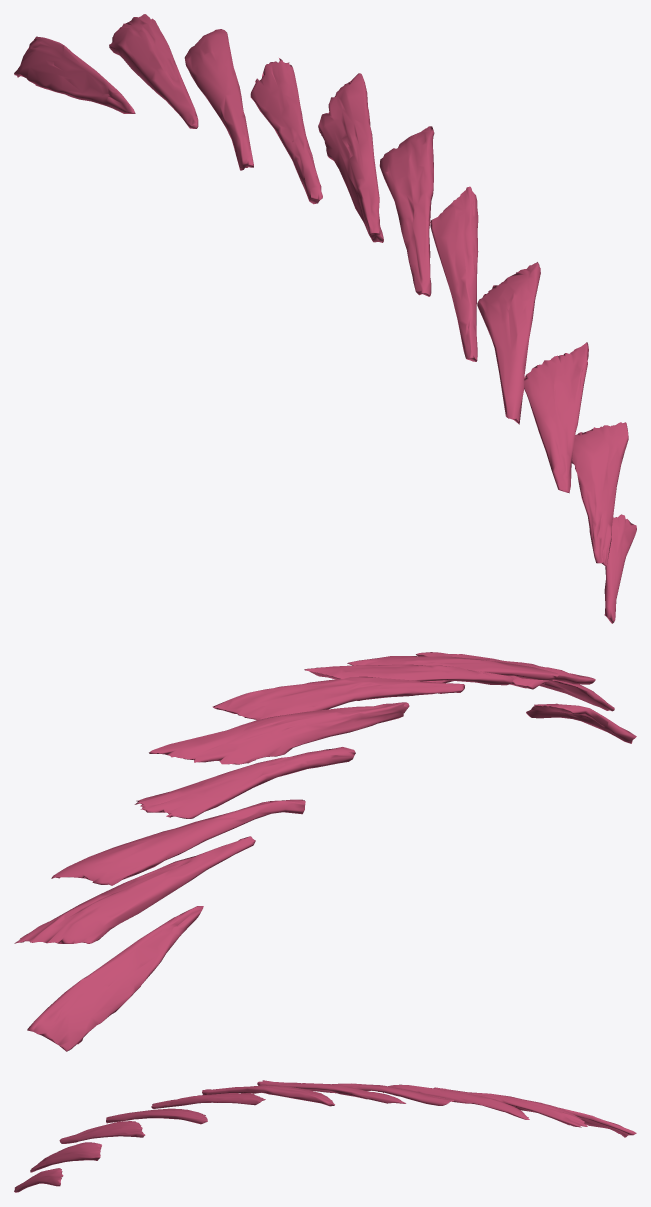
The picture shows the model from 3 angles, top to bottom: view 1: azimuth 30°, elevation 25°; view 2: azimuth 150°, elevation 25°; view 3: azimuth 270°, elevation 25°; orthographic projection. The views are drawn at different scales.
Visible parts, largest first — view 1: 左侧肋长提肌; view 2: 左侧肋长提肌; view 3: 左侧肋长提肌.
Boxes of the visible parts, box(x1,y1,x2,y2) form: 左侧肋长提肌: box(14, 14, 636, 623); 左侧肋长提肌: box(14, 652, 636, 1051); 左侧肋长提肌: box(14, 1080, 636, 1192).
Size of the model in its own units: 0.0696 by 0.1068 by 0.486.
